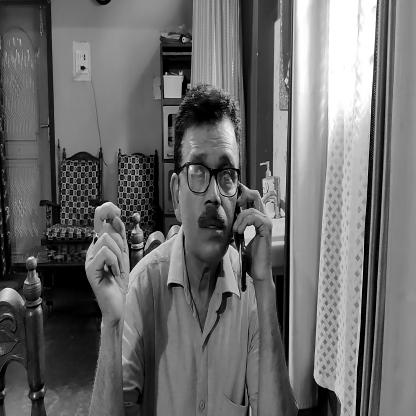Normal: (172, 105, 239, 256)
